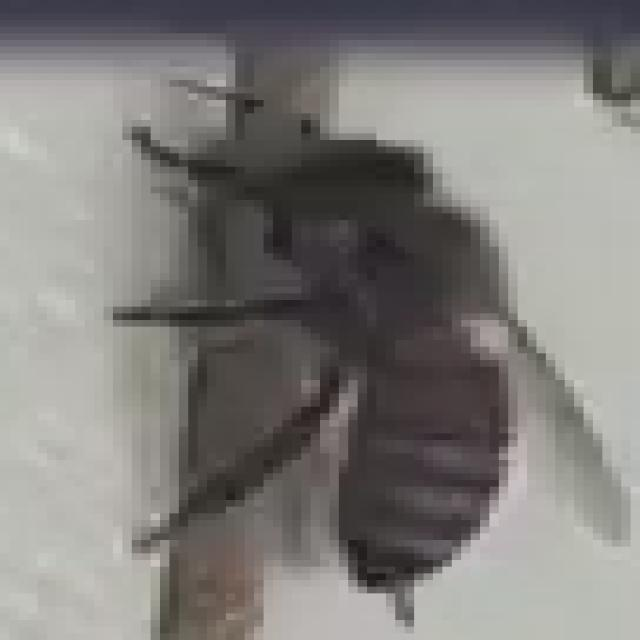honeybee: (99, 78, 542, 591)
